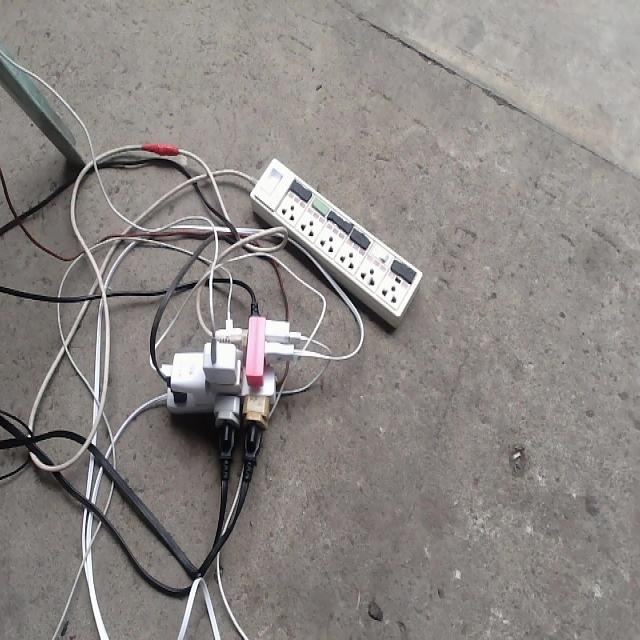-: (161, 307, 296, 441)
